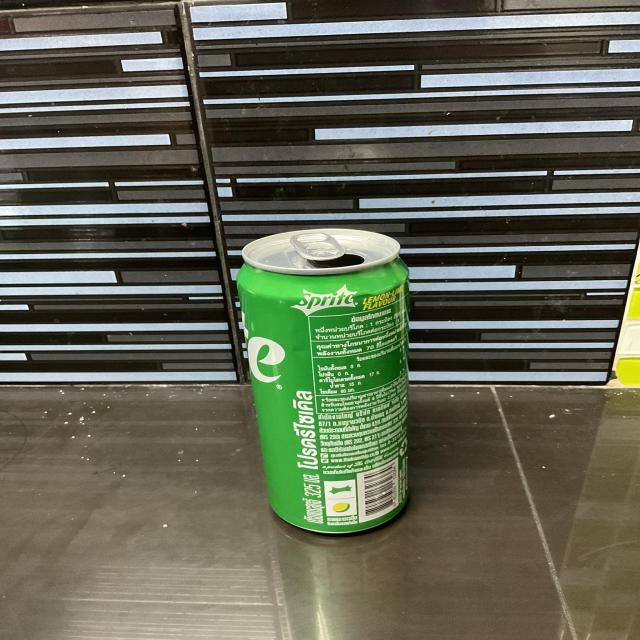can: (234, 226, 411, 536)
